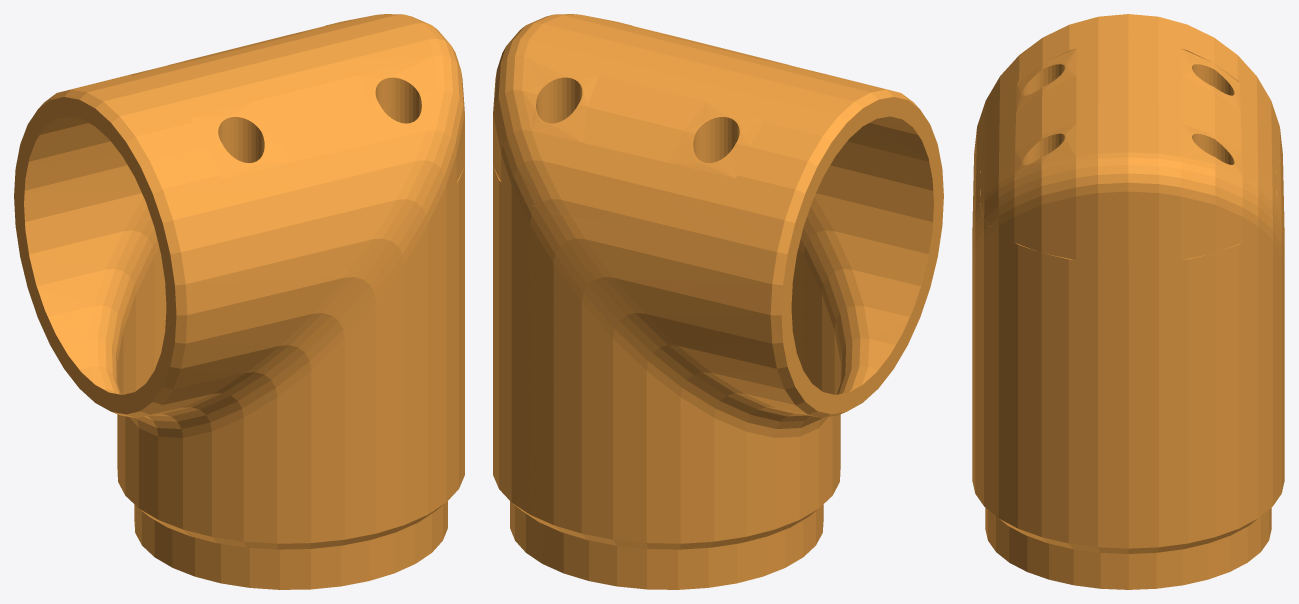
3 renders of one model, left to right at view 1: azimuth 30°, elevation 25°; view 2: azimuth 150°, elevation 25°; view 3: azimuth 270°, elevation 25°, orthographic. The views are drawn at different scales.
Visible parts, largest first — view 1: link_5; view 2: link_5; view 3: link_5.
Part boxes in pixels (x1=…): link_5: x1=14, y1=14, x2=464, y2=589; link_5: x1=493, y1=14, x2=943, y2=589; link_5: x1=972, y1=14, x2=1284, y2=589.
Size of the model in its own units: 0.1526 by 0.129 by 0.1968.
